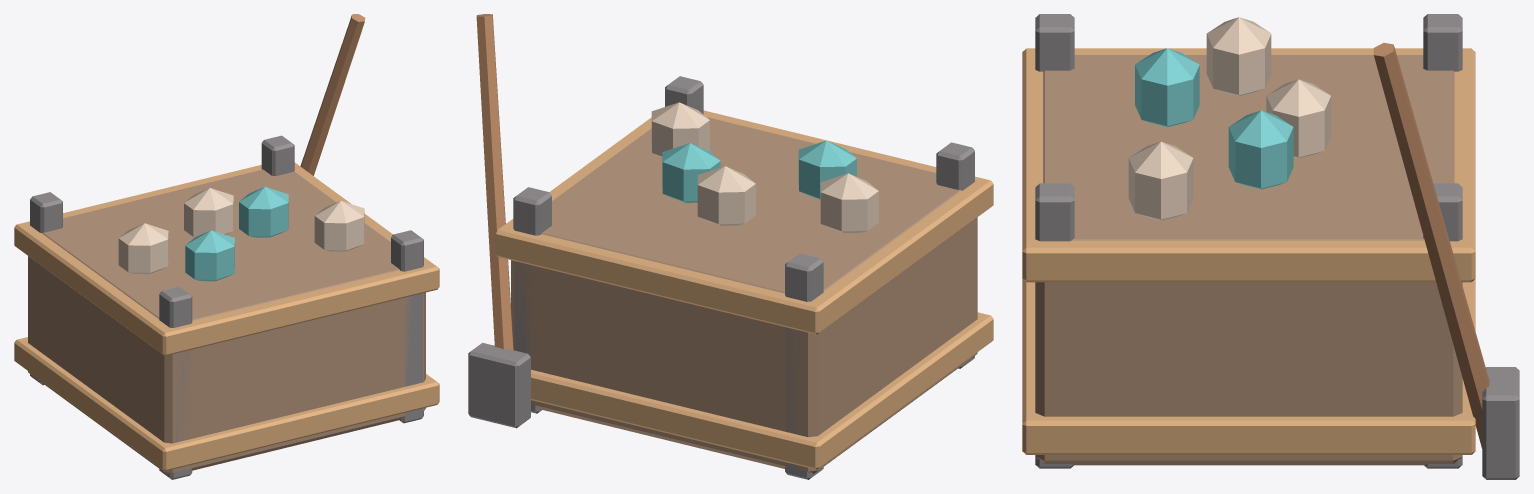
Rendered from excavation_crate.glb.
3 views of the same model, side by side, from view 1: azimuth 30°, elevation 25°; view 2: azimuth 150°, elevation 25°; view 3: azimuth 270°, elevation 25° (orthographic). The views are drawn at different scales.
Size of the model in its own units: 0.8476 by 0.7721 by 0.757.
